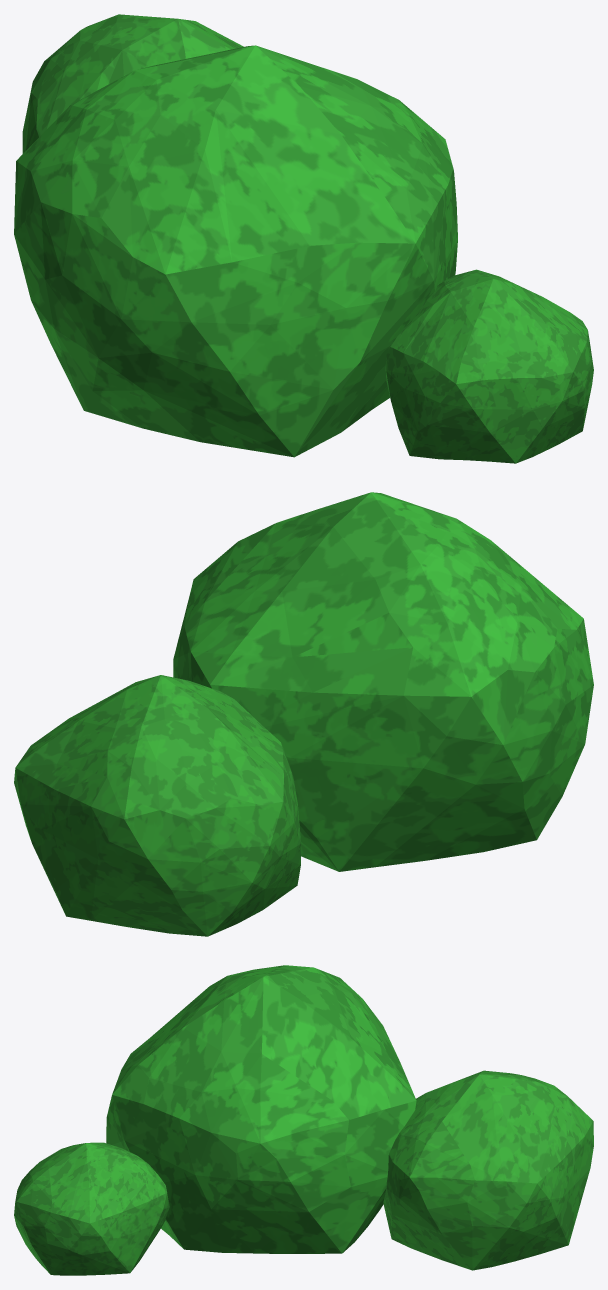
Rendered from ThreeBushesTextured.glb.
3 views of the same model, one above another, from view 1: azimuth 30°, elevation 25°; view 2: azimuth 150°, elevation 25°; view 3: azimuth 270°, elevation 25° (orthographic). The views are drawn at different scales.
Parts seen in each view (by area): view 1: Icosphere, Icosphere.003, Icosphere.001; view 2: Icosphere, Icosphere.001; view 3: Icosphere, Icosphere.001, Icosphere.003.
Part boxes in pixels (x1=…): Icosphere: x1=14, y1=45, x2=457, y2=457; Icosphere.003: x1=385, y1=269, x2=593, y2=463; Icosphere.001: x1=22, y1=14, x2=243, y2=153; Icosphere: x1=173, y1=492, x2=593, y2=871; Icosphere.001: x1=14, y1=675, x2=300, y2=936; Icosphere: x1=106, y1=965, x2=416, y2=1253; Icosphere.001: x1=383, y1=1070, x2=593, y2=1270; Icosphere.003: x1=14, y1=1142, x2=169, y2=1275.
Bounding box in the file's own units: 2.36 × 1.85 × 3.99.
3 materials, 3 textured.
